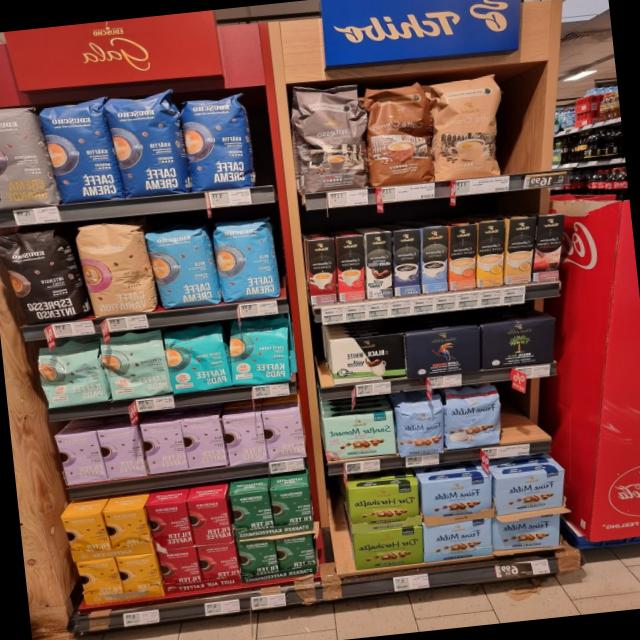BM Gemahlen: (477, 315, 561, 371)
BW Gemahlen: (326, 332, 406, 386)
CC Mild: (425, 68, 511, 182)
CC Vollmundig 36 Pads: (360, 78, 440, 188)
Espresso Aromatisch: (289, 82, 372, 194)
FM 36 Pads: (440, 384, 505, 448)
FM Bohne: (392, 401, 448, 458)
FM Gemahlen: (420, 474, 494, 526), (492, 467, 570, 516), (421, 517, 494, 563), (492, 512, 564, 552)
Herzhatfe Mundig: (346, 481, 422, 533), (350, 524, 424, 570)
LG Gemahlen: (404, 324, 482, 380)
SM Gemahlen: (320, 410, 397, 461)
Simo CC Colombia: (532, 213, 565, 281)
Simo CCMild bigpack: (477, 219, 505, 287)
Simo CCVollmundig bigpack: (448, 223, 477, 290)
Simo Decaff: (503, 217, 535, 284)
Simo Es Brazil: (332, 234, 368, 302)
Simo Es Caramel: (304, 238, 340, 304)
Simo Es Elegant: (361, 230, 397, 300)
Simo Es Kraft: (393, 229, 420, 295)
Simo Es Vanilla: (422, 226, 447, 292)
